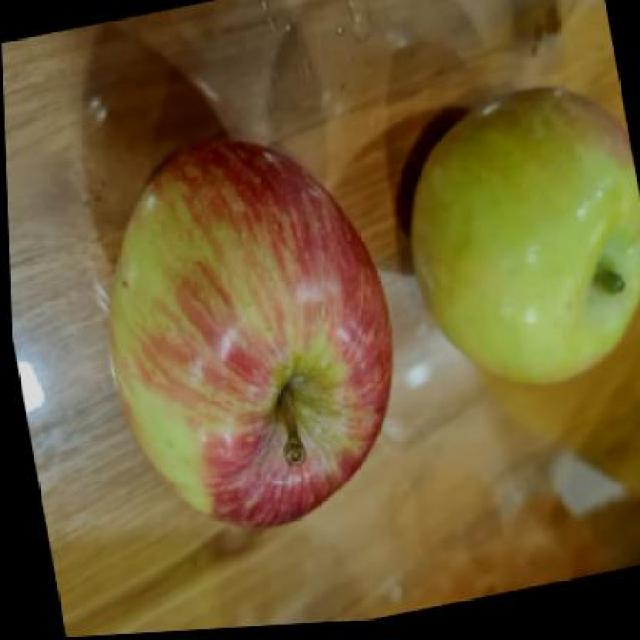Fresh Apple: (118, 145, 385, 525), (412, 98, 640, 370)
